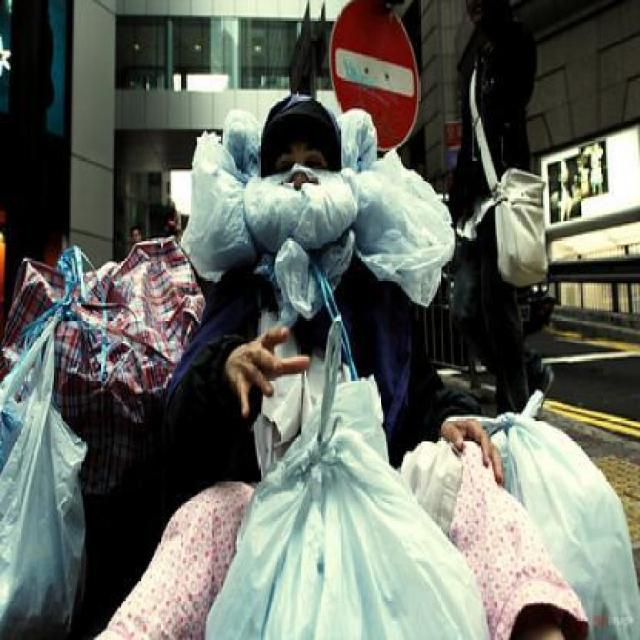plastic bag: (0, 90, 638, 638)
